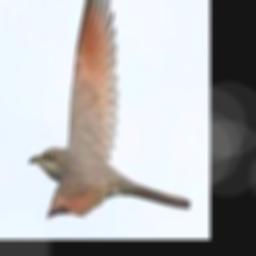Cuckoo: (28, 0, 190, 217)
